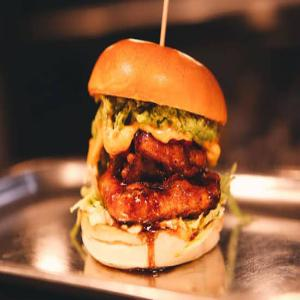cheeseburger: (67, 25, 245, 282)
